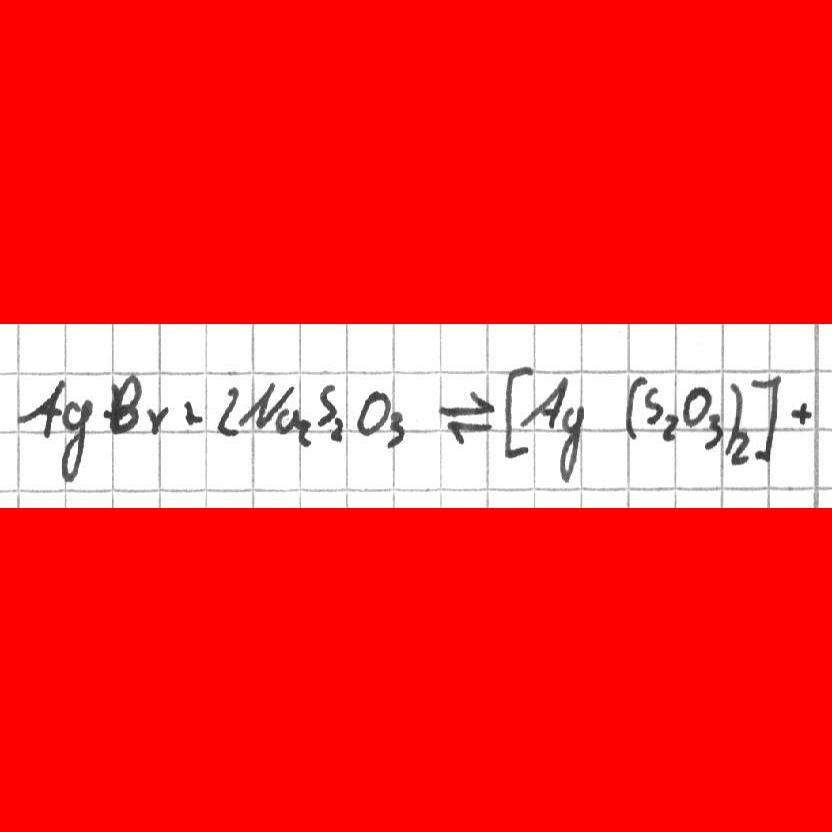Char: (436, 388, 496, 448), (500, 362, 533, 460), (14, 377, 64, 441), (750, 371, 783, 464), (60, 399, 94, 484), (101, 371, 143, 438), (237, 380, 293, 430), (519, 374, 567, 430), (558, 405, 586, 484), (356, 390, 390, 436), (679, 383, 713, 427), (626, 374, 648, 441), (216, 383, 240, 439), (145, 402, 172, 438), (701, 411, 725, 451), (383, 411, 407, 450), (642, 383, 663, 426), (318, 382, 337, 426), (275, 406, 301, 437), (729, 427, 750, 464), (181, 396, 205, 428), (294, 416, 316, 449), (788, 399, 815, 425), (660, 412, 680, 442), (329, 414, 346, 443)
